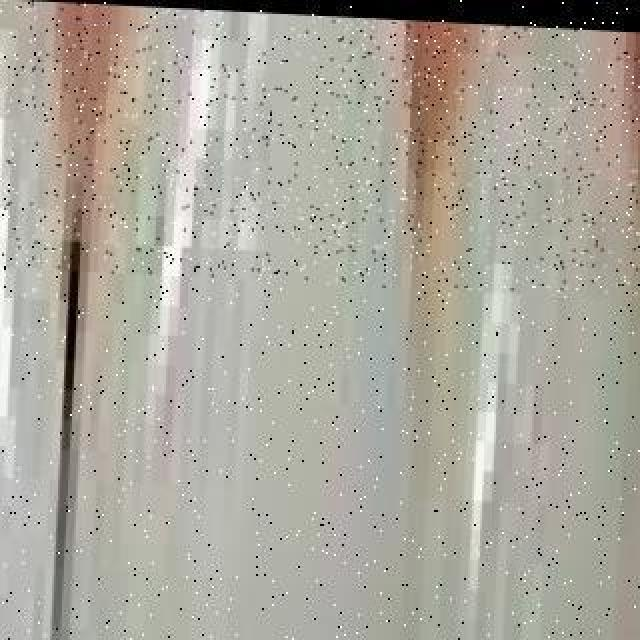spacing: (10, 200, 136, 640)
